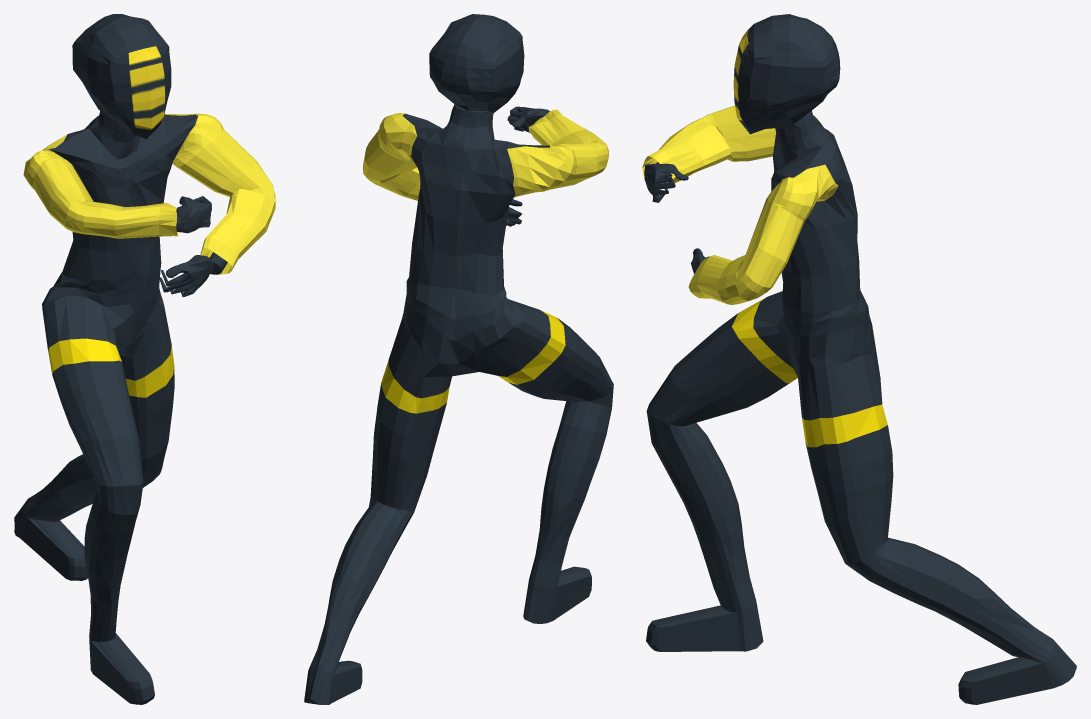
File: Sentry_Hit_Stun_Recover_000002.obj
The picture shows the model from 3 angles, left to right: view 1: azimuth 30°, elevation 25°; view 2: azimuth 150°, elevation 25°; view 3: azimuth 270°, elevation 25°; orthographic projection. The views are drawn at different scales.
Parts seen in each view (by area): view 1: Cube; view 2: Cube; view 3: Cube.
Part boxes in pixels (x1,y1,x2,y2): Cube: [14, 14, 275, 704]; Cube: [304, 14, 613, 704]; Cube: [642, 14, 1076, 704].
Size of the model in its own units: 1.33 by 3.49 by 2.08.
